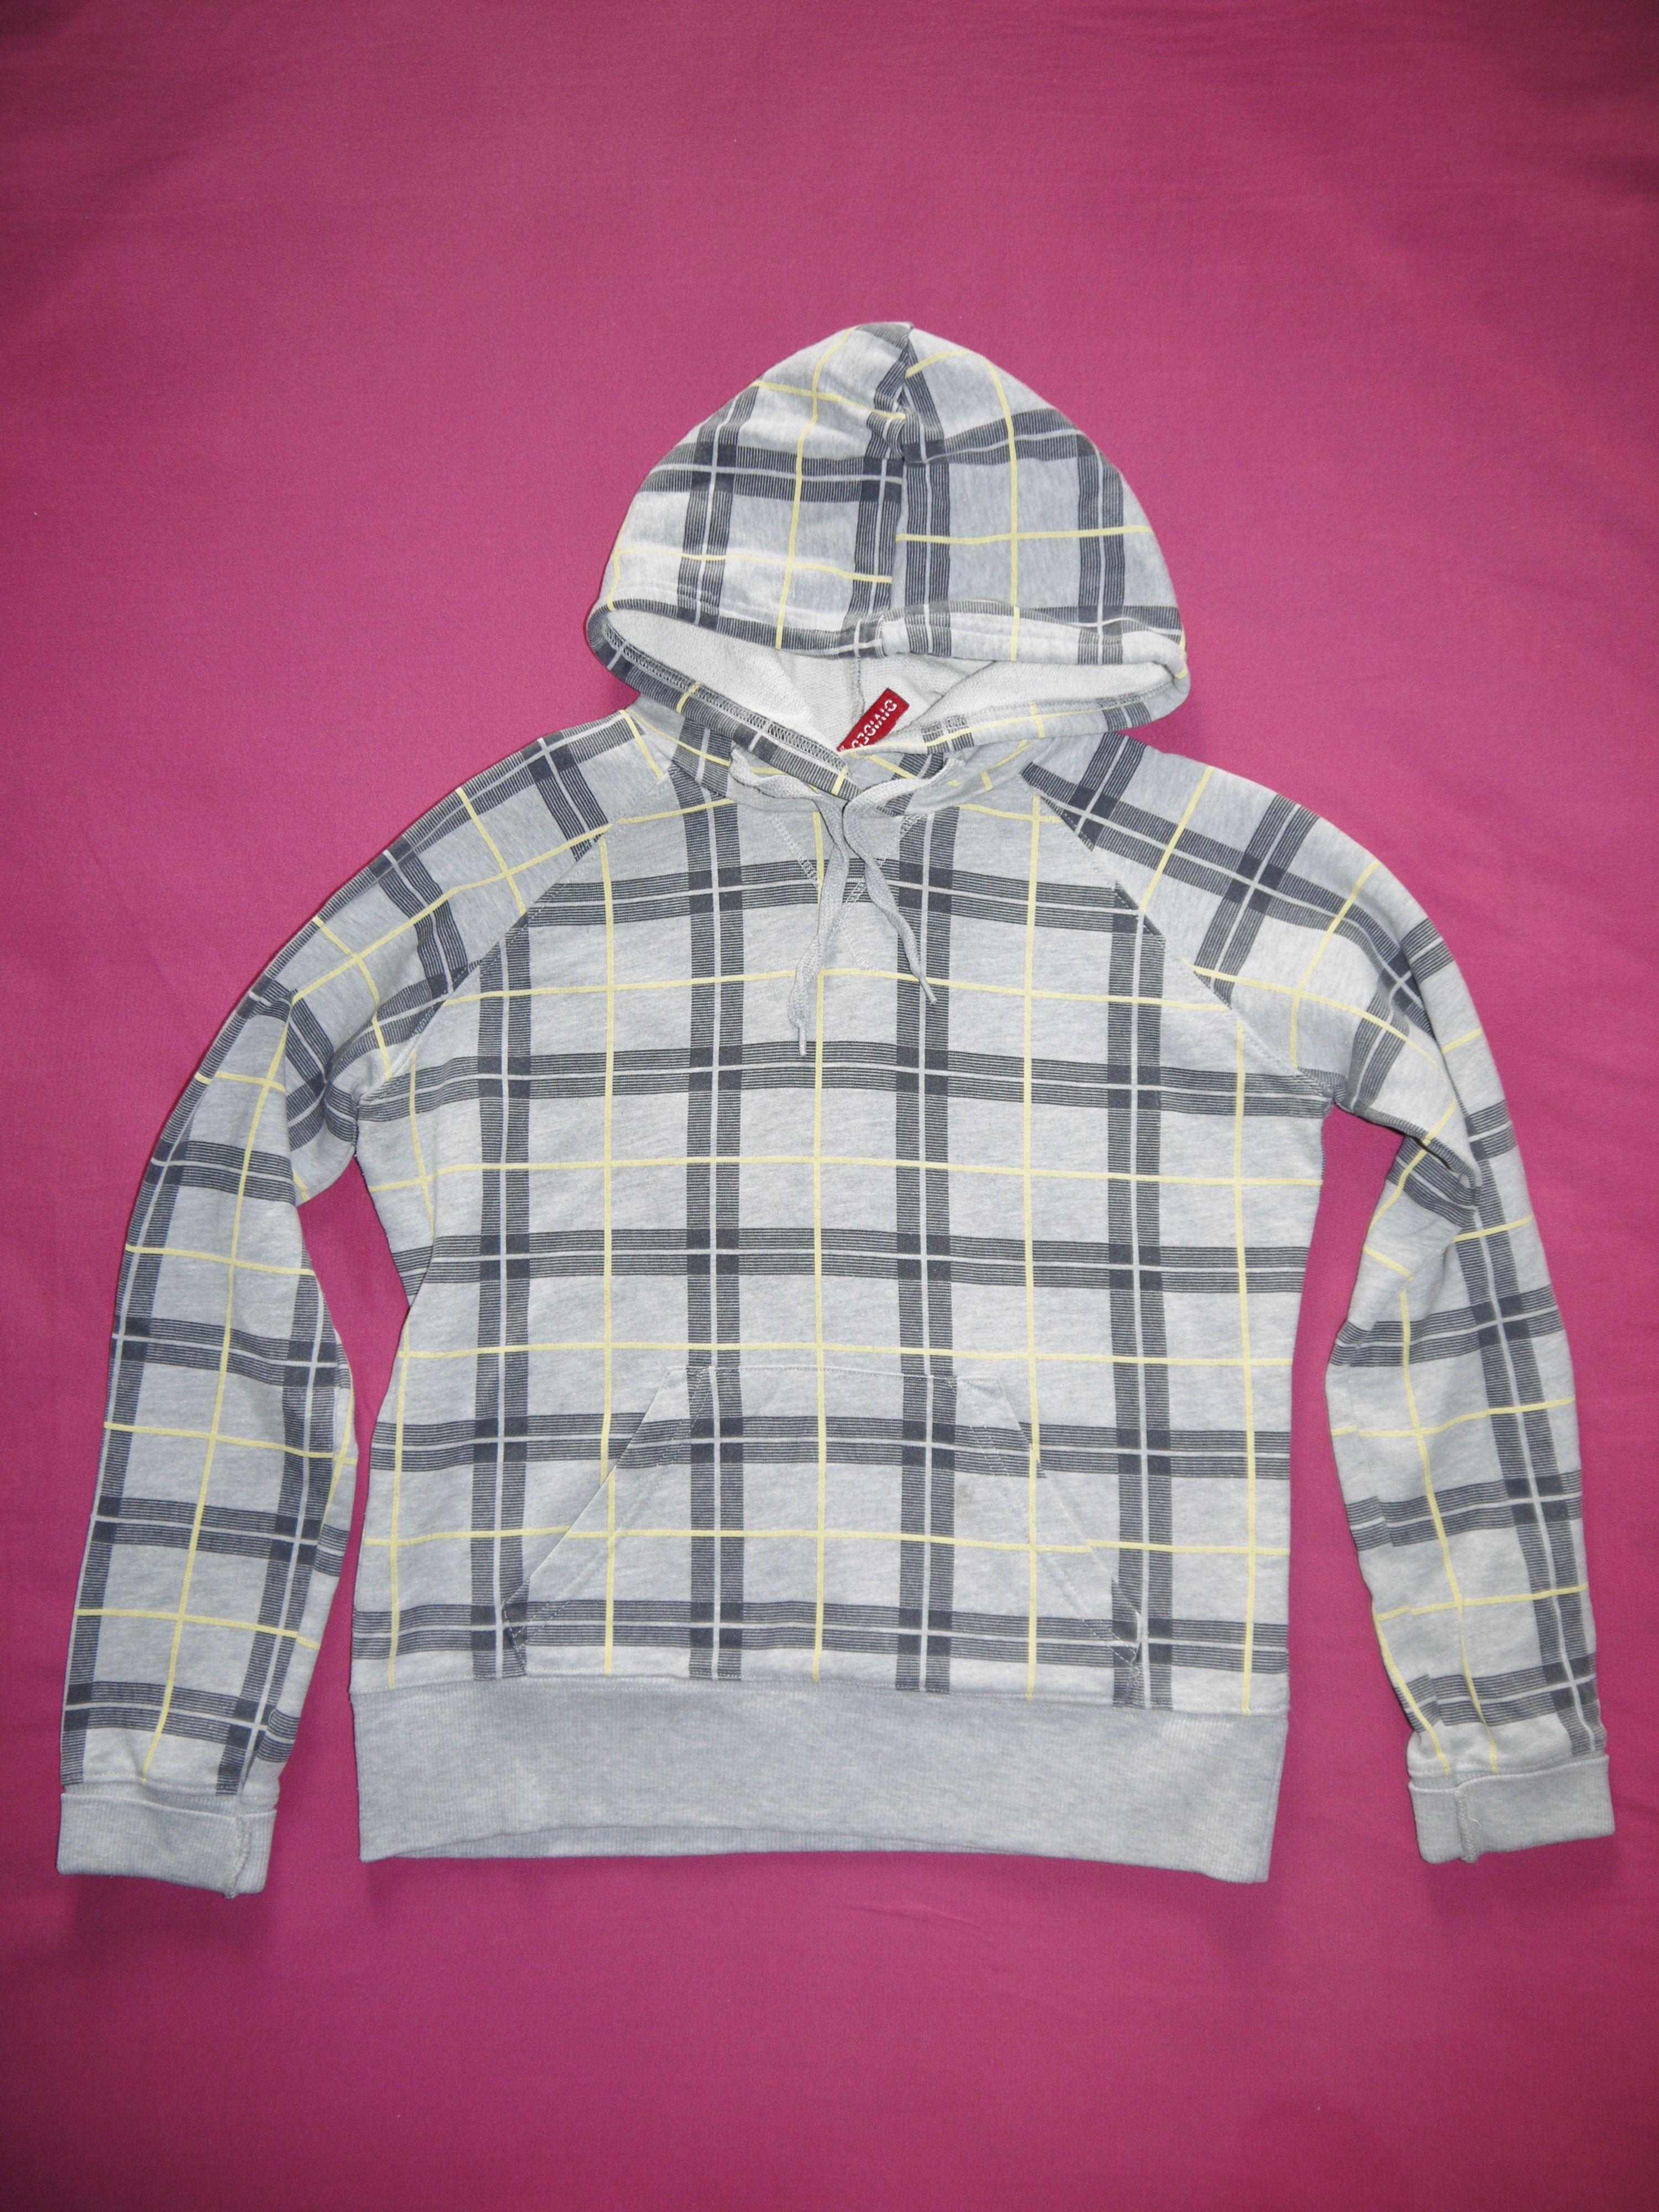clothes: (66, 305, 1643, 1921)
